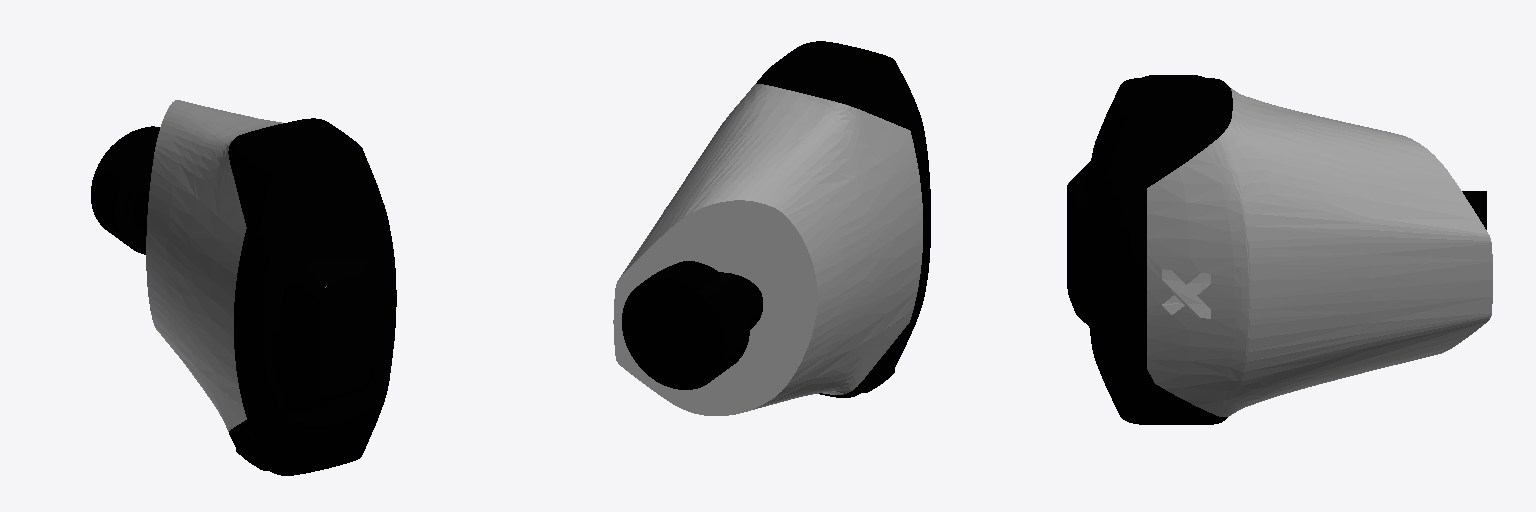
File: torso_link4.obj
3 renders of one model, left to right at view 1: azimuth 30°, elevation 25°; view 2: azimuth 150°, elevation 25°; view 3: azimuth 270°, elevation 25°, orthographic.
Visible parts, largest first — view 1: torso_link4; view 2: torso_link4; view 3: torso_link4.
Boxes of the visible parts, x1=… form: torso_link4: x1=91, y1=100, x2=396, y2=475; torso_link4: x1=613, y1=41, x2=930, y2=415; torso_link4: x1=1067, y1=75, x2=1492, y2=424.
Size of the model in its own units: 0.2143 by 0.3484 by 0.4461.